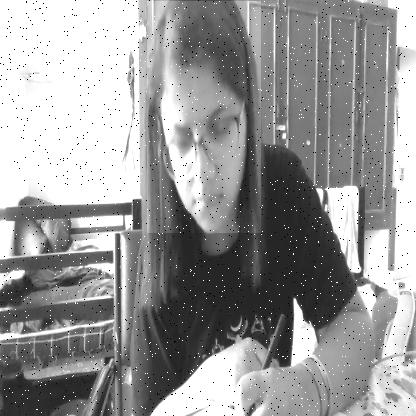Normal: (147, 1, 261, 233)
